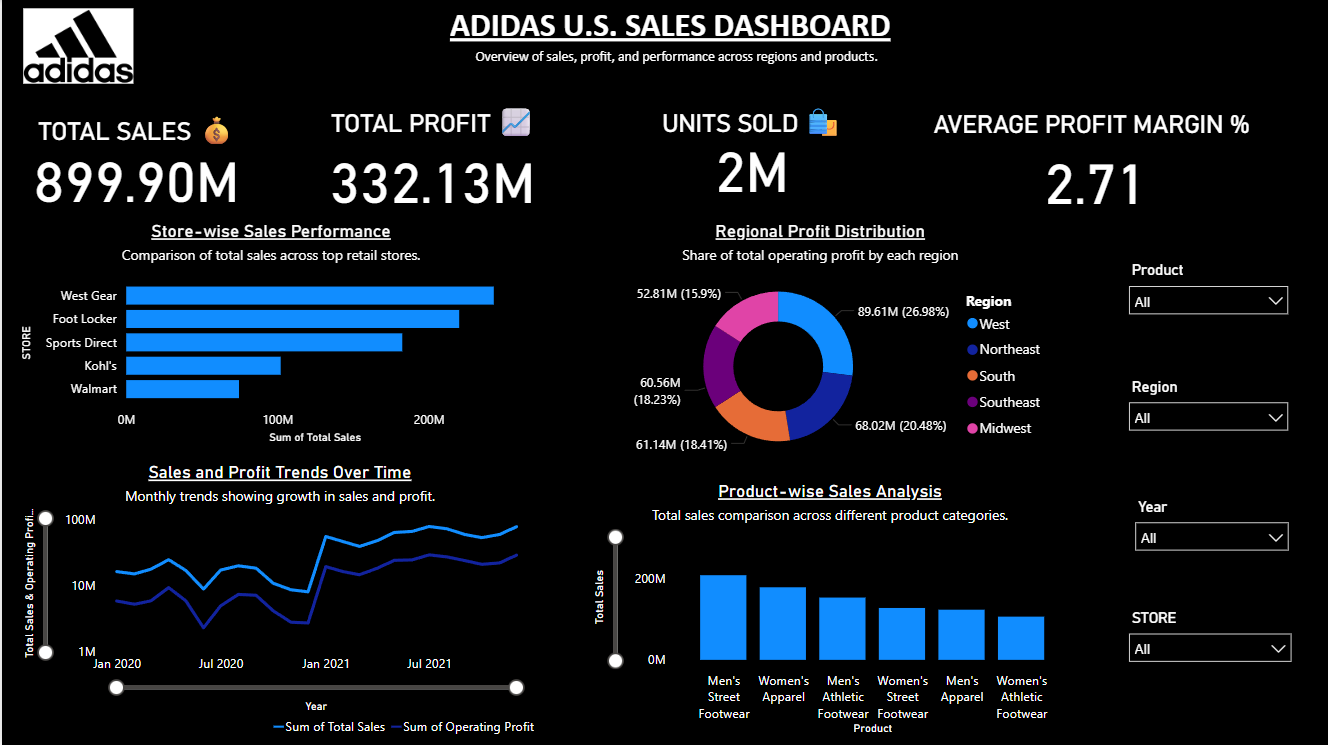

Layout of this report page (visuals, bound fields, positions):
{"tool":"powerbi","page":{"name":"Page 1","canvas":[1280,720],"ordinal":0},"visuals":[{"type":"textbox","box":[9.6,0,1270.7,87.8],"z":0},{"type":"lineChart","title":"Sales and Profit Trends Over Time","fields":{"Y":["Sum(Data Sales Adidas.Total Sales)","Sum(Data Sales Adidas.Operating Profit)"],"Category":["Data Sales Adidas.Invoice Date.Variation.Date Hierarchy.Year","Data Sales Adidas.Invoice Date.Variation.Date Hierarchy.Month"]},"box":[12.9,445.7,510,274.3],"z":1},{"type":"slicer","fields":{"Values":["Data Sales Adidas.Region"]},"box":[1077.1,360,174.3,75.7],"z":2},{"type":"slicer","title":"pRODUCT","fields":{"Values":["Data Sales Adidas.Product"]},"box":[1077.1,247.1,174.3,75.7],"z":3},{"type":"slicer","fields":{"Values":["Data Sales Adidas.Invoice Date.Variation.Date Hierarchy.Year"]},"box":[1082.9,475.7,168.6,84.3],"z":4},{"type":"slicer","fields":{"Values":["Data Sales Adidas.STORE"]},"box":[1077.1,582.9,177.1,81.4],"z":5},{"type":"card","title":"TOTAL SALES 💰","fields":{"Values":["Data Sales Adidas.SUM Sales"]},"box":[0,105.7,260,98.6],"z":6},{"type":"card","title":"TOTAL PROFIT 📈","fields":{"Values":["Data Sales Adidas.Total Profit"]},"box":[282.9,98.6,267.1,115.7],"z":7},{"type":"card","title":"UNITS SOLD 🛍️","fields":{"Values":["Data Sales Adidas.UnitsSold"]},"box":[617.1,98.6,212.9,94.3],"z":8},{"type":"clusteredColumnChart","title":"Product-wise Sales Analysis","fields":{"Category":["Data Sales Adidas.Product"],"Y":["Sum(Data Sales Adidas.Total Sales)"]},"box":[562.9,462.9,471.4,250],"z":9},{"type":"barChart","title":"Store-wise Sales Performance","fields":{"Category":["Data Sales Adidas.STORE"],"Y":["Sum(Data Sales Adidas.Total Sales)"]},"box":[12.9,212.9,492.9,220],"z":10},{"type":"donutChart","title":"Regional Profit Distribution","fields":{"Y":["Sum(Data Sales Adidas.Operating Profit)"],"Category":["Data Sales Adidas.Region"]},"box":[562.9,212.9,452.9,240],"z":11},{"type":"card","title":"AVERAGE PROFIT MARGIN %","fields":{"Values":["Data Sales Adidas.Average Profit Margin %"]},"box":[894.3,105.7,322.9,102.9],"z":12},{"type":"image","box":[0,0,130,105.7],"z":13}]}

Visuals, with their boxes in screenshot pixels (x1, y1, x2, y2), scaled from the page's 1280x720 canvas onto the 1328x745 screenshot:
textbox: bbox=(10, 0, 1327, 91)
"Sales and Profit Trends Over Time" lineChart: bbox=(13, 461, 543, 744)
slicer - Data Sales Adidas.Region: bbox=(1117, 373, 1298, 451)
"pRODUCT" slicer: bbox=(1117, 256, 1298, 334)
slicer - Data Sales Adidas.Invoice Date.Variation.Date Hierarchy.Year: bbox=(1124, 492, 1298, 579)
slicer - Data Sales Adidas.STORE: bbox=(1117, 603, 1301, 687)
"TOTAL SALES 💰" card: bbox=(0, 109, 270, 211)
"TOTAL PROFIT 📈" card: bbox=(294, 102, 571, 222)
"UNITS SOLD 🛍️" card: bbox=(640, 102, 861, 200)
"Product-wise Sales Analysis" clusteredColumnChart: bbox=(584, 479, 1073, 738)
"Store-wise Sales Performance" barChart: bbox=(13, 220, 525, 448)
"Regional Profit Distribution" donutChart: bbox=(584, 220, 1054, 469)
"AVERAGE PROFIT MARGIN %" card: bbox=(928, 109, 1263, 216)
image: bbox=(0, 0, 135, 109)
